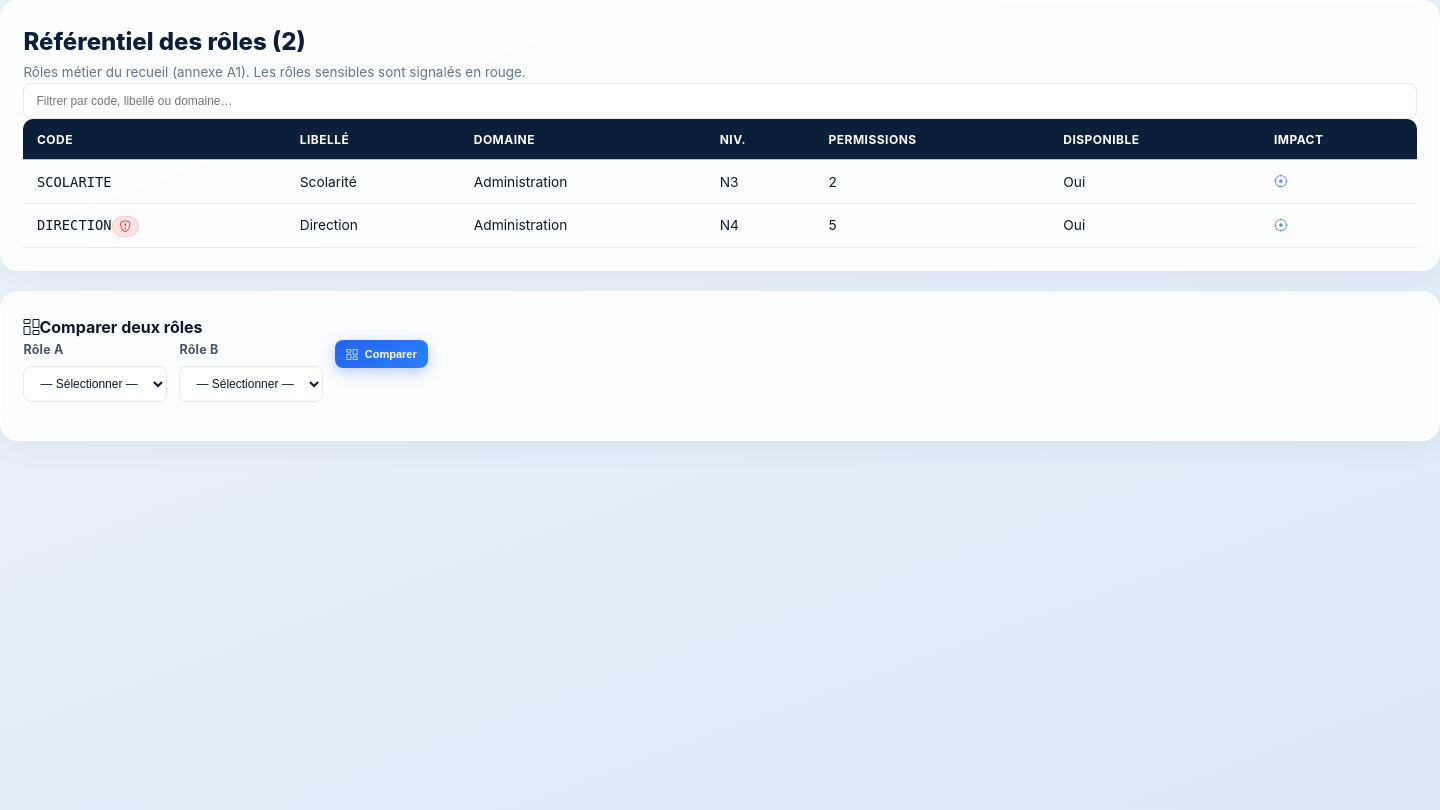
Test case: GestionRoles — comparaison de deux rôles (Lot B) › refuse deux rôles identiques sans appel API
Expected: the element with test id "ecran-roles" is shown, [0, 0, 1439, 441]
Select "SCOLARITE" in the dropdown with test id "comparer-a": (95, 384) [23, 366, 167, 402]
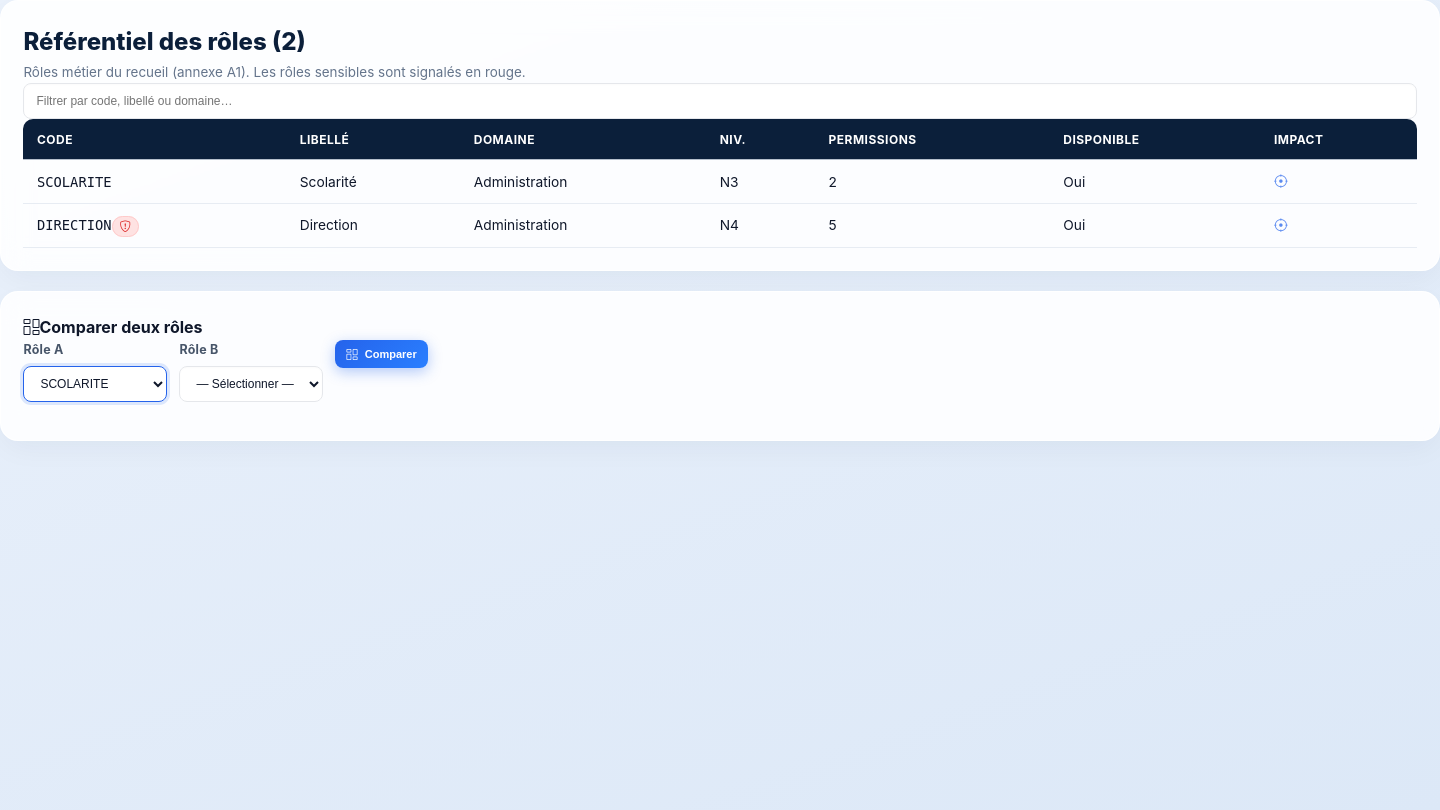
Select "SCOLARITE" in the dropdown with test id "comparer-b": (251, 384) [179, 366, 323, 402]
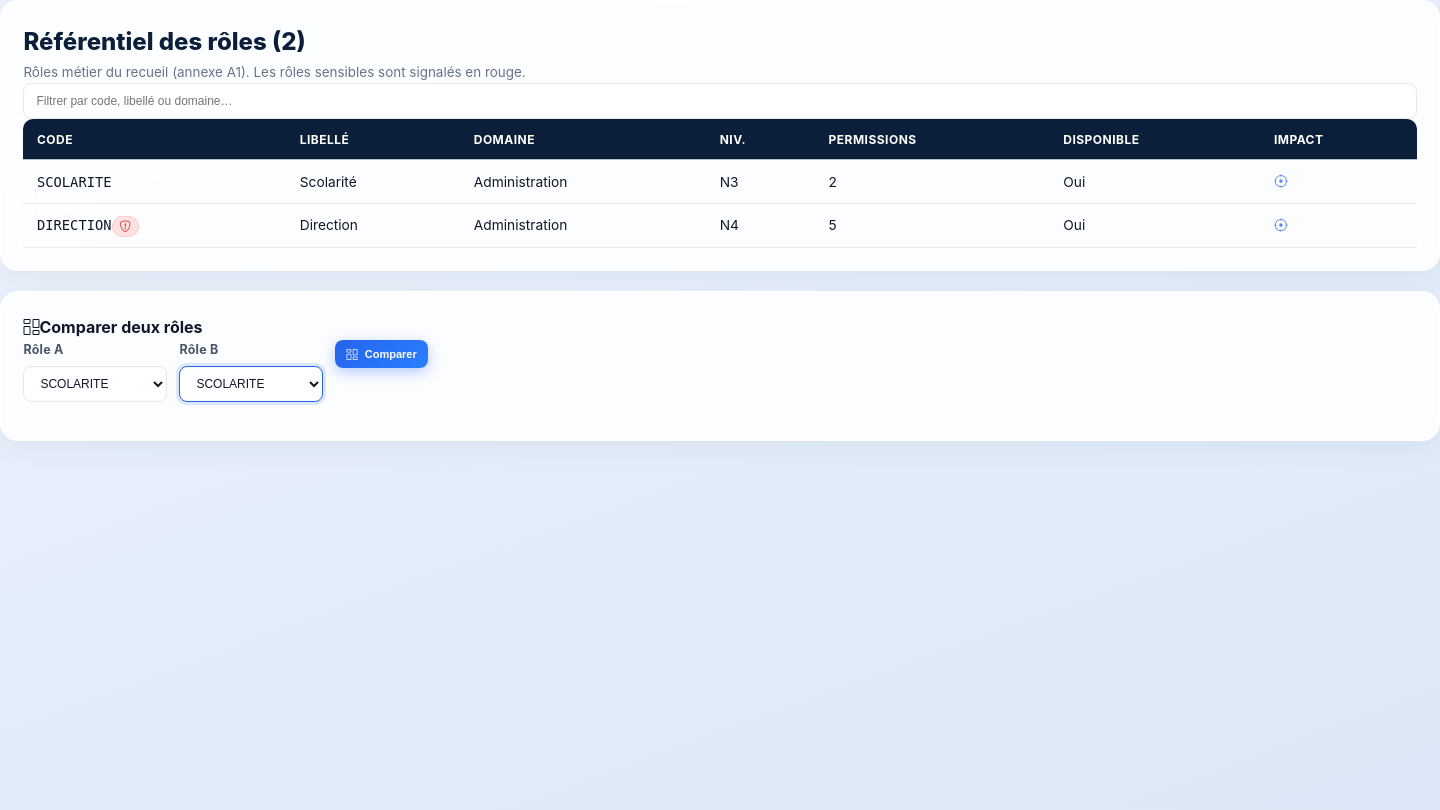
Click the button with test id "lancer-comparaison": (382, 354) [335, 340, 428, 368]
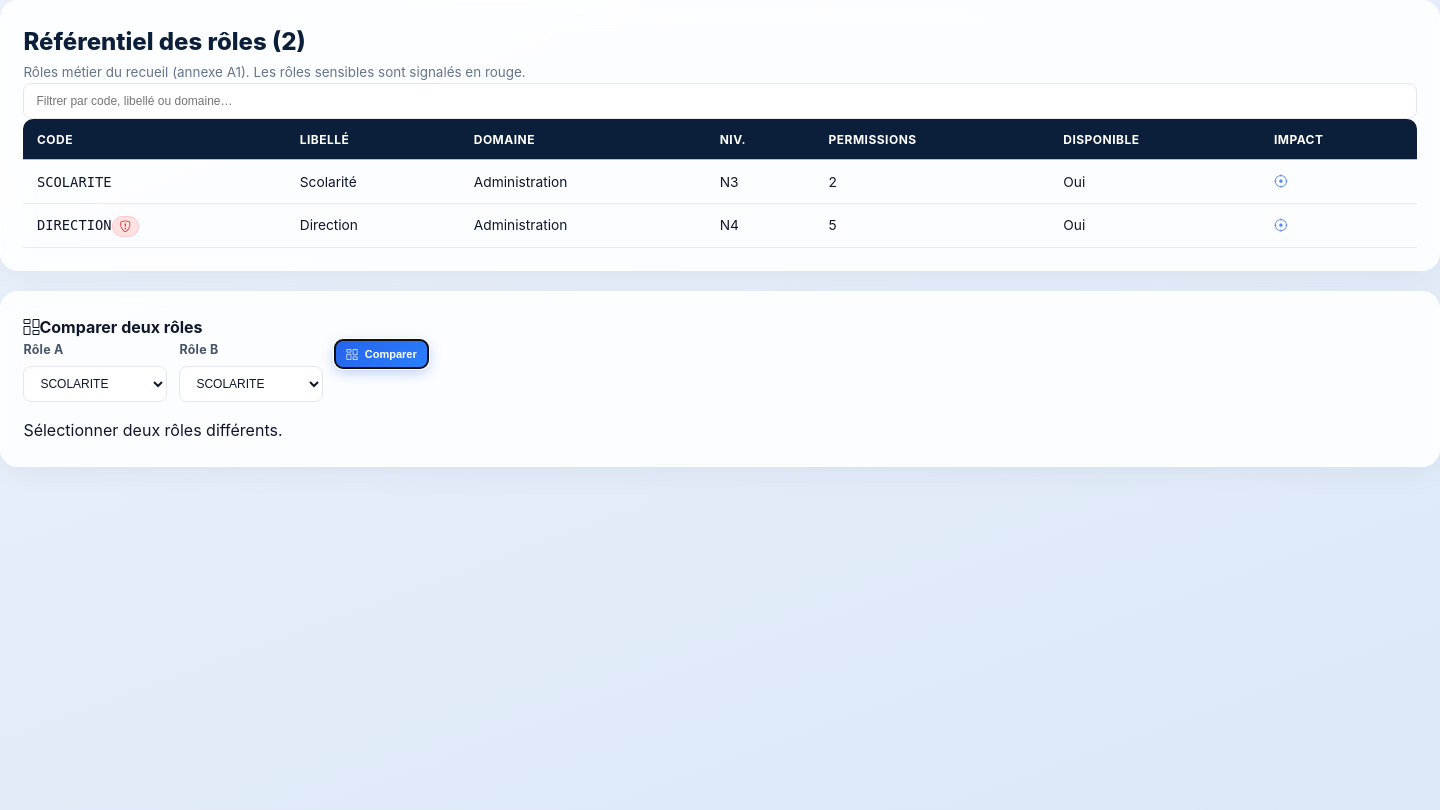
Expected: the text with test id "comparaison-erreur" shows "deux rôles différents", [23, 420, 282, 440]
